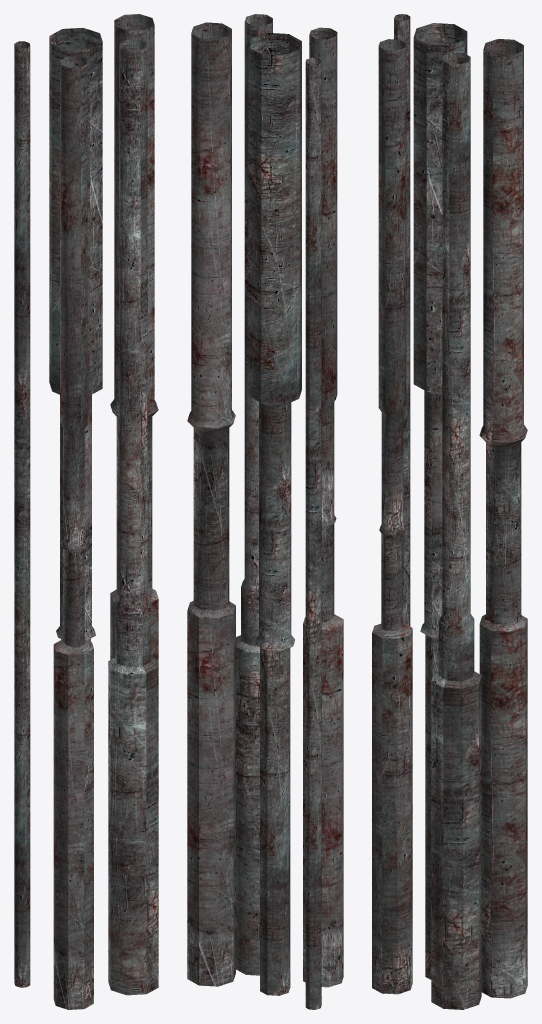
Rendered from pipes-c.FBX.
3 views of the same model, side by side, from view 1: azimuth 30°, elevation 25°; view 2: azimuth 150°, elevation 25°; view 3: azimuth 330°, elevation 25° (orthographic).
Visible parts, largest first — view 1: PipesC; view 2: PipesC; view 3: PipesC.
Part boxes in pixels (<box>): PipesC: <box>14,14,158,1009</box>; PipesC: <box>187,14,343,1009</box>; PipesC: <box>372,14,527,1009</box>.
Bounding box in the file's own units: 2.82 × 18.7 × 1.75.
